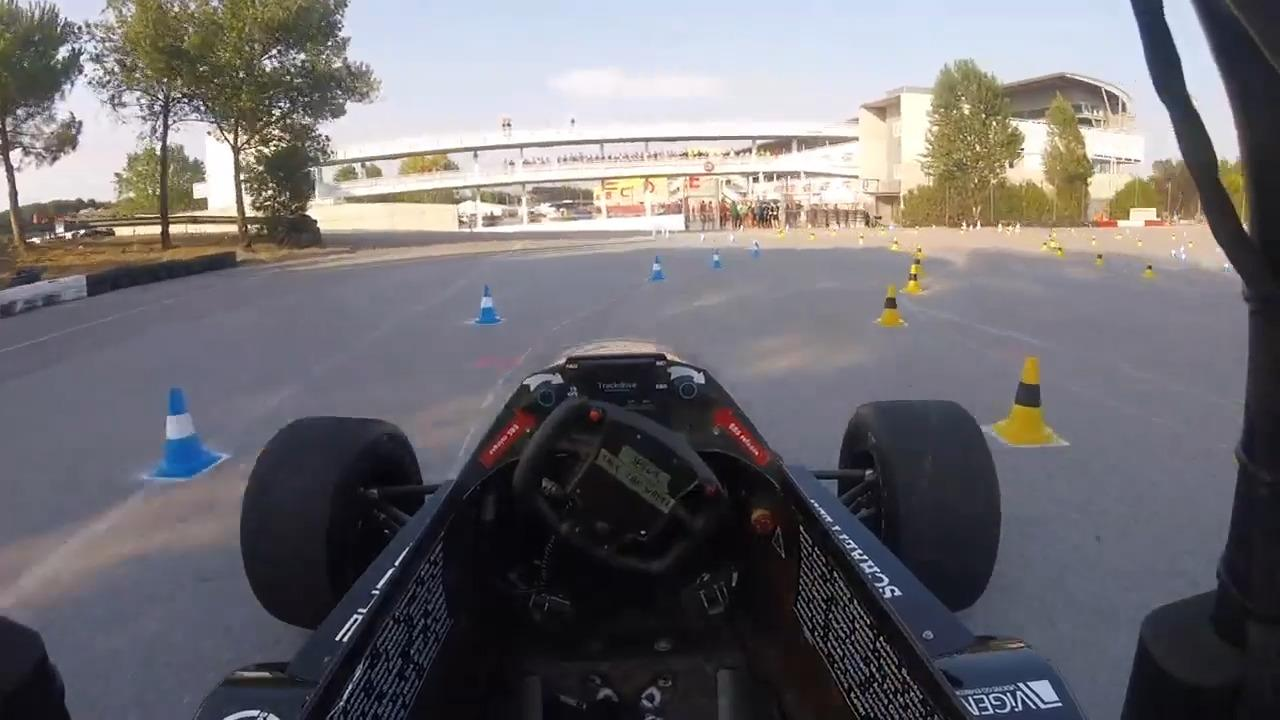blue_cone: (150, 389, 215, 478), (480, 287, 499, 325), (651, 255, 665, 281), (710, 249, 721, 269), (751, 242, 760, 259), (728, 231, 735, 244)
yellow_cone: (996, 355, 1056, 444), (879, 284, 903, 328), (905, 261, 921, 296), (1094, 246, 1106, 269), (1144, 259, 1155, 280), (915, 244, 924, 263), (1056, 242, 1064, 262), (857, 231, 866, 246), (1040, 237, 1048, 253), (891, 236, 900, 250), (809, 227, 816, 240)
